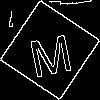M: (25, 25, 75, 78)
